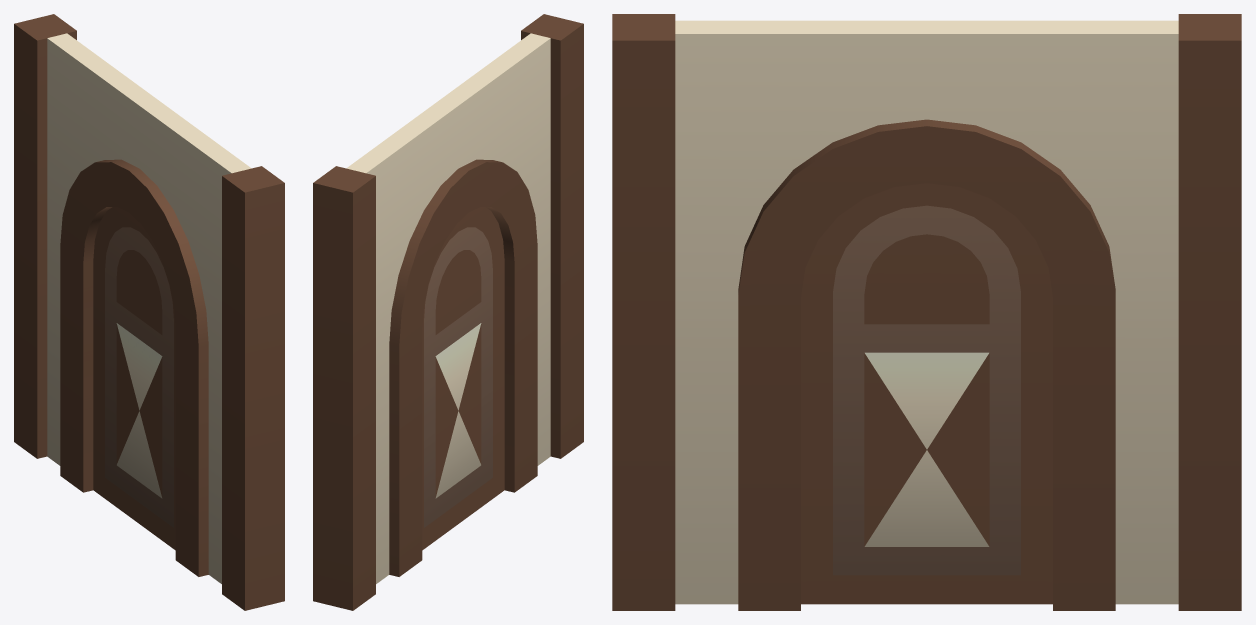
File: wall-door.glb
3 renders of one model, left to right at view 1: azimuth 30°, elevation 25°; view 2: azimuth 150°, elevation 25°; view 3: azimuth 270°, elevation 25°, orthographic. The views are drawn at different scales.
Visible parts, largest first — view 1: wall-door; view 2: wall-door; view 3: wall-door.
Boxes of the visible parts, bbox=[...] form: wall-door: bbox=[14, 14, 284, 610]; wall-door: bbox=[313, 14, 583, 610]; wall-door: bbox=[612, 14, 1241, 610].
Size of the model in its own units: 0.1 by 1 by 1.
Materials: 1 (1 with a texture image).
